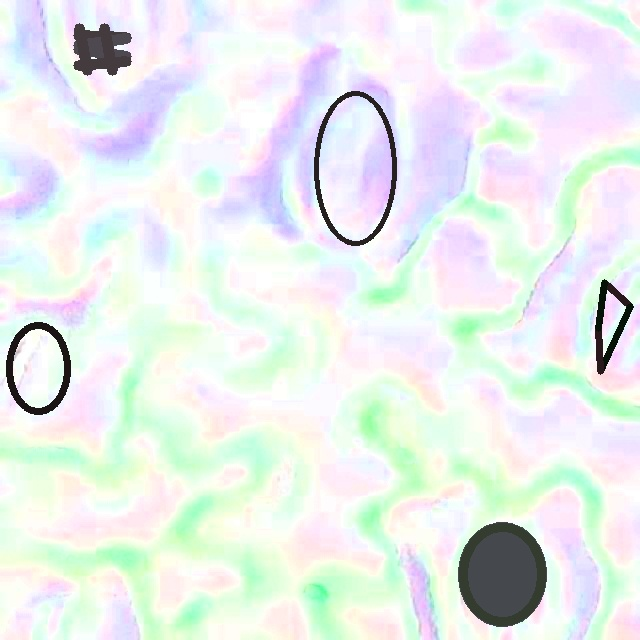close: (313, 91, 397, 246), (458, 522, 545, 626), (595, 279, 633, 374), (73, 24, 131, 75)
open: (5, 321, 71, 415)
